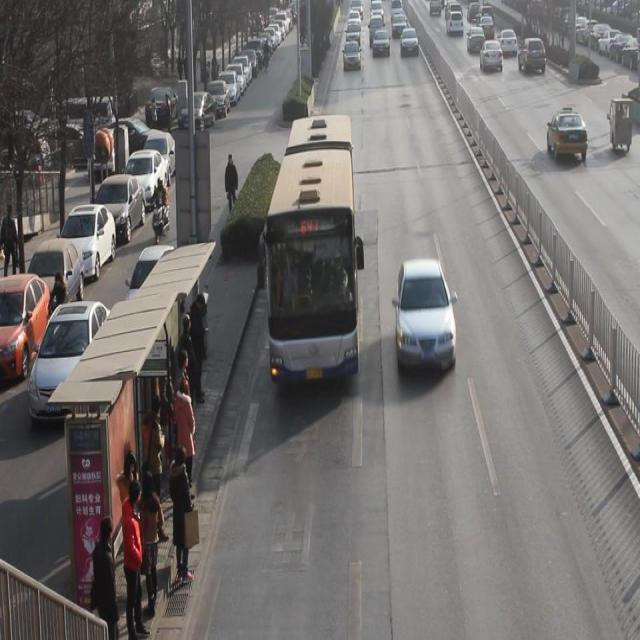car: (395, 260, 456, 376), (547, 110, 587, 165), (518, 37, 546, 78), (480, 42, 503, 74), (400, 29, 419, 58), (344, 43, 362, 73), (498, 30, 518, 56), (373, 30, 390, 58), (467, 28, 485, 54)
van: (265, 118, 358, 383)
